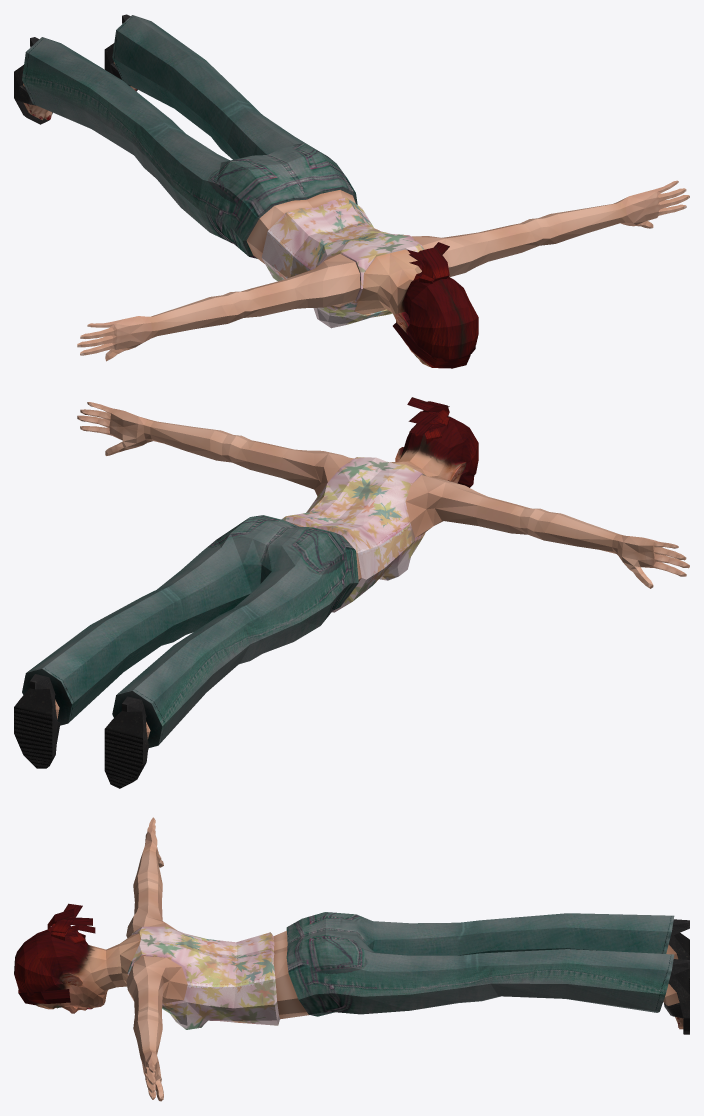
File: tomdrinwoman1_3kredhead_wtf.obj
The picture shows the model from 3 angles, top to bottom: view 1: azimuth 30°, elevation 25°; view 2: azimuth 150°, elevation 25°; view 3: azimuth 270°, elevation 25°; orthographic projection. The views are drawn at different scales.
Visible parts, largest first — view 1: group1; view 2: group1; view 3: group1.
Boxes of the visible parts, x1=… form: group1: x1=14, y1=14, x2=689, y2=368; group1: x1=14, y1=397, x2=689, y2=788; group1: x1=14, y1=817, x2=689, y2=1101.
Size of the model in its own units: 609 by 115 by 660.
